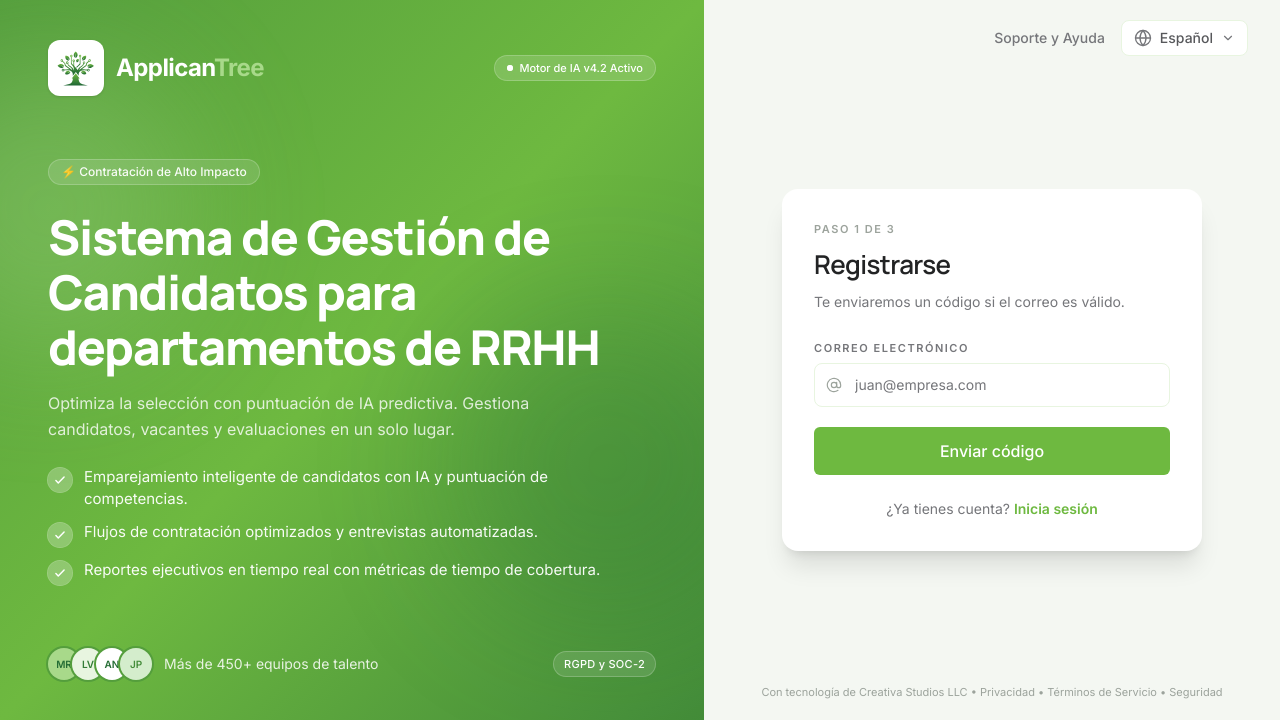
Test: Registro con One-Time Password › bloquea el envío ante 429 y muestra el tope de intentos
Type "nuevo@ejemplo.com" into the field with test id "auth-register-email" at (992, 385), box [814, 363, 1170, 407]
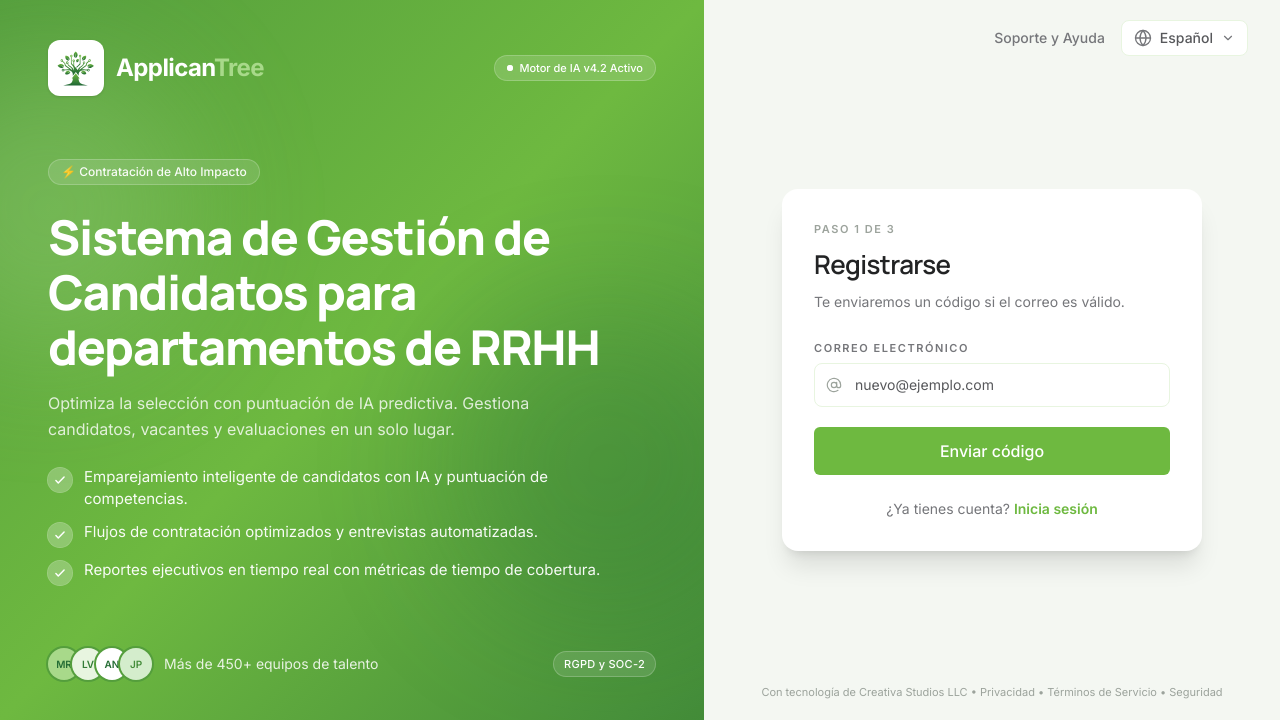
Submit the form with test id "auth-register-form", box [814, 340, 1170, 475]
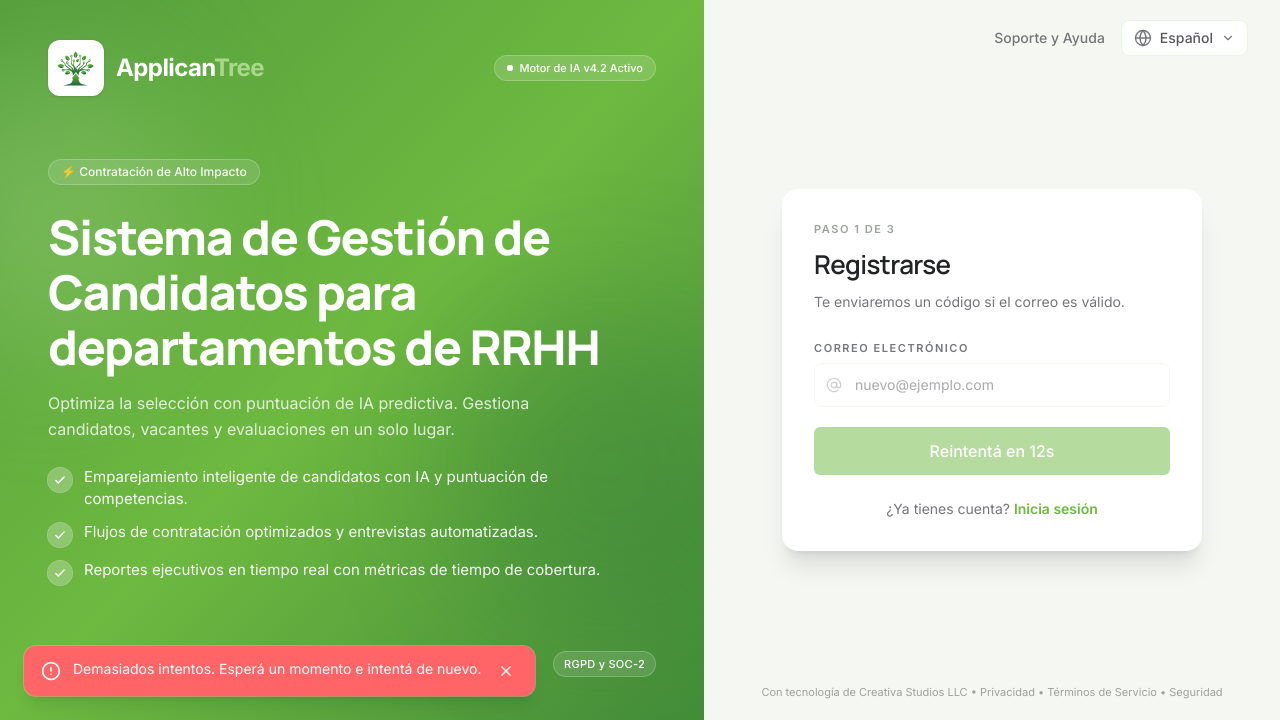
Expected: the message with test id "app-snackbar" shows "Demasiados intentos", [73, 660, 482, 677]
Expected: the button with test id "auth-register-submit" reads "Reintentá en 12s", [814, 427, 1170, 475]
